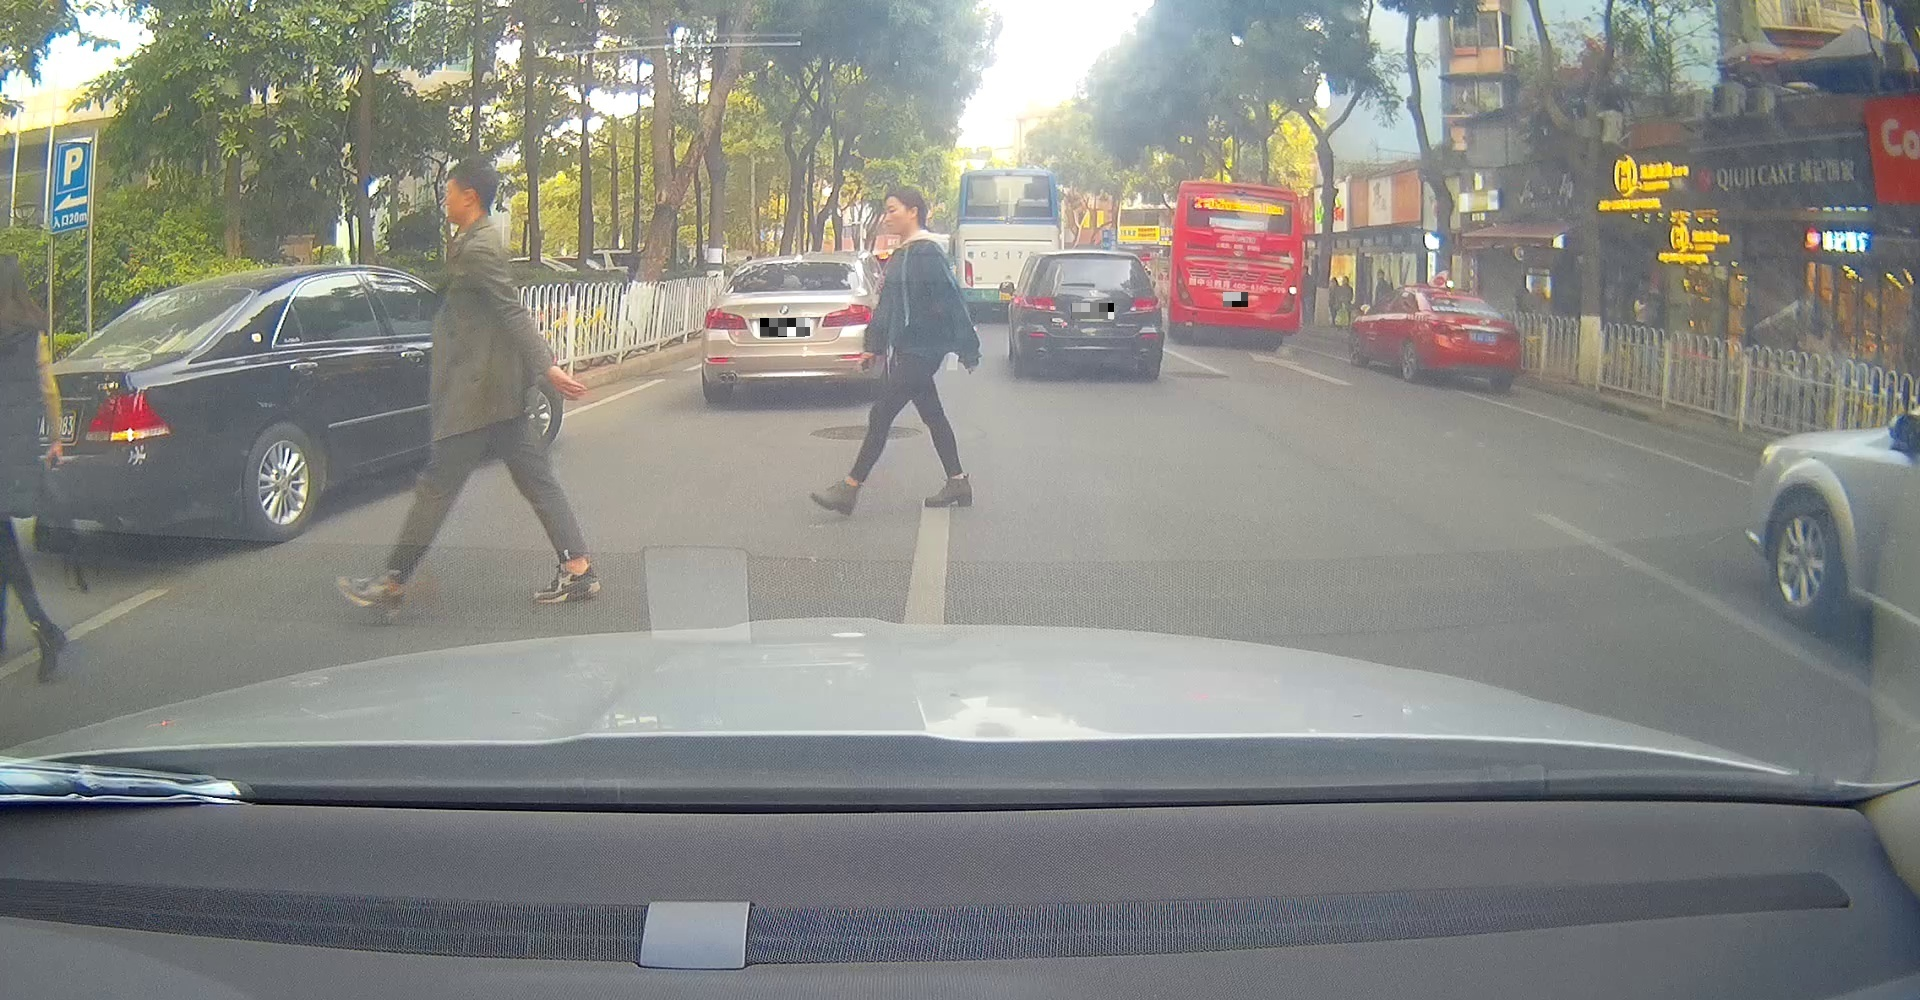L_light: (703, 307, 748, 329), (1176, 263, 1192, 306), (1018, 294, 1057, 312), (1427, 319, 1465, 335)
R_light: (822, 305, 872, 327), (1272, 275, 1295, 315), (1130, 294, 1163, 313), (1501, 326, 1520, 340)
T_light: (783, 259, 809, 266), (1233, 189, 1250, 197), (1084, 251, 1106, 256), (1450, 289, 1465, 294)
day-no: (703, 253, 877, 402), (1018, 247, 1164, 379), (1418, 286, 1521, 393)
day-right: (1167, 181, 1302, 352)
plate_1: (759, 319, 810, 338)
plate_2: (1072, 303, 1114, 319)
plate_3: (1223, 292, 1248, 307)
